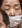mask_weared_incorrect: (1, 2, 22, 28)
